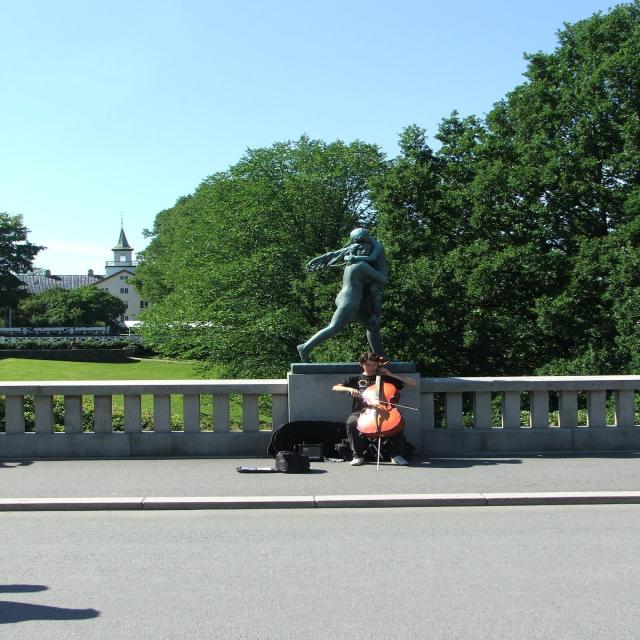cello: (354, 358, 408, 469)
